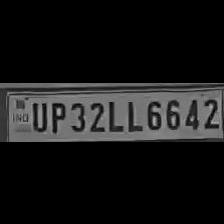2: (86, 97, 106, 132), (200, 94, 218, 130)
3: (68, 97, 86, 132)
4: (182, 94, 200, 130)
6: (143, 96, 163, 130), (162, 96, 180, 130)
L: (106, 96, 124, 132), (122, 95, 140, 131)
P: (46, 97, 66, 132)
U: (27, 98, 47, 132)
